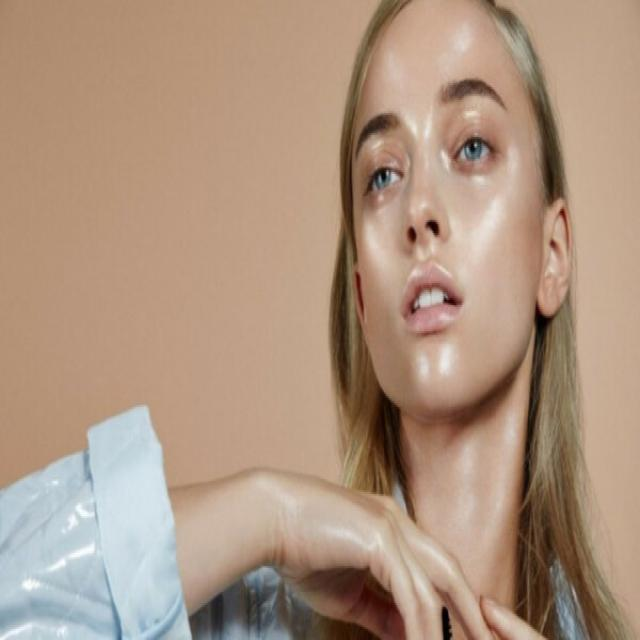Oily-Skin: (468, 192, 506, 263), (361, 214, 387, 270), (400, 105, 438, 140), (378, 45, 407, 90), (437, 339, 459, 380), (506, 138, 520, 174), (453, 23, 472, 49), (415, 240, 437, 259), (415, 355, 429, 382)
